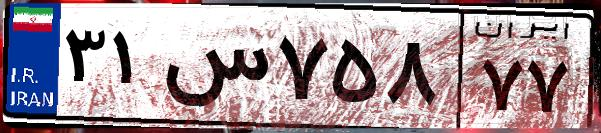1: (110, 28, 158, 98)
3: (57, 26, 110, 100)
5: (330, 28, 385, 110)
7: (270, 28, 330, 110), (475, 38, 525, 113), (525, 38, 570, 115)
8: (385, 28, 445, 110)
س: (158, 20, 270, 120)
